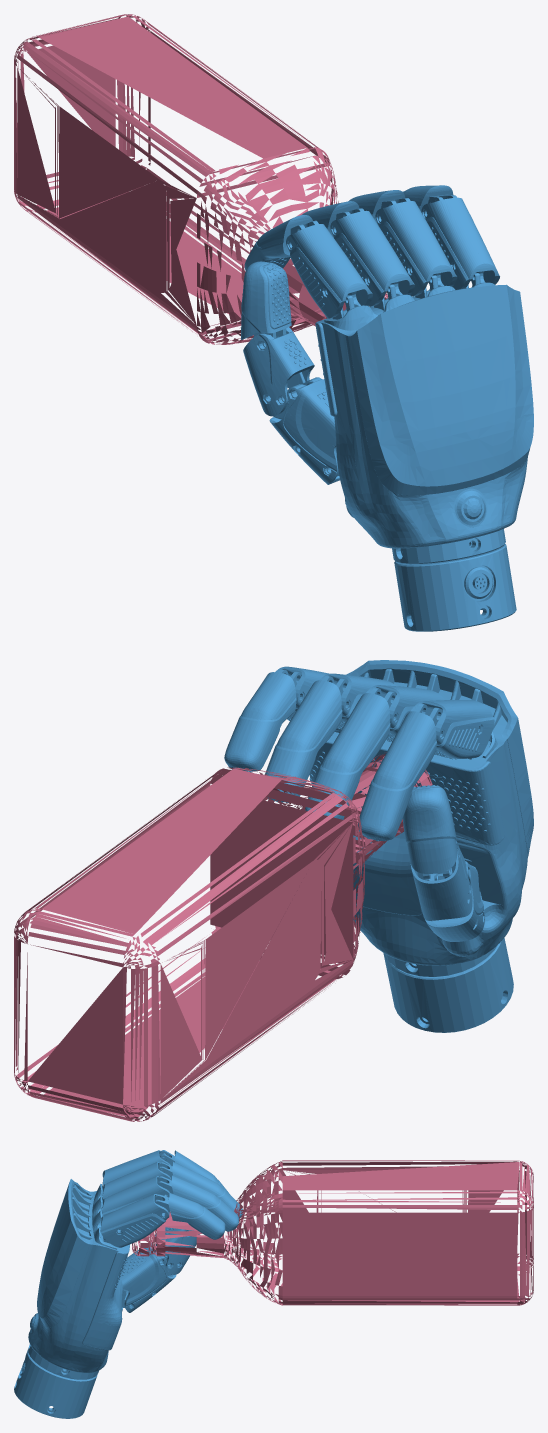
3 views of the same model, one above another, from view 1: azimuth 30°, elevation 25°; view 2: azimuth 150°, elevation 25°; view 3: azimuth 270°, elevation 25° (orthographic). The views are drawn at different scales.
Parts seen in each view (by area): view 1: inspire2; view 2: inspire2; view 3: inspire2.
Part boxes in pixels (x1,y1,x2,y2): inspire2: [14, 14, 533, 631]; inspire2: [14, 660, 533, 1121]; inspire2: [14, 1150, 533, 1418].
Bounding box in the file's own units: 0.1005 × 0.1794 × 0.3502.
